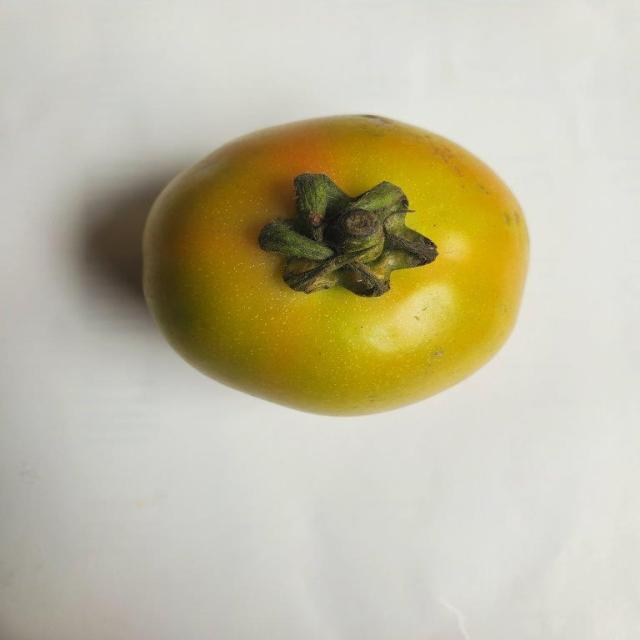Tomato: (142, 108, 533, 417)
